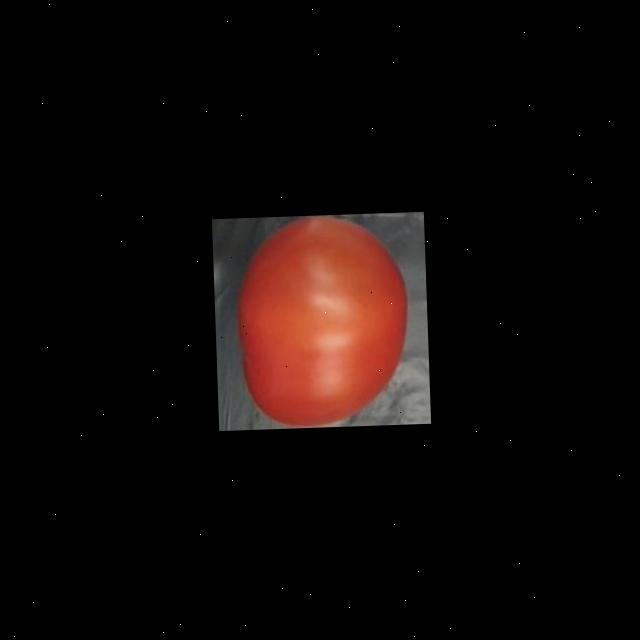tomato: (224, 212, 414, 429)
